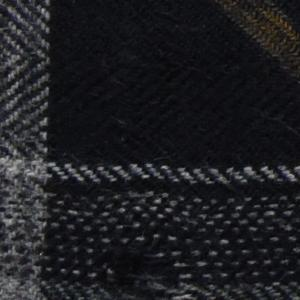Damage: (87, 223, 203, 300)
Stain: (204, 1, 300, 98)
